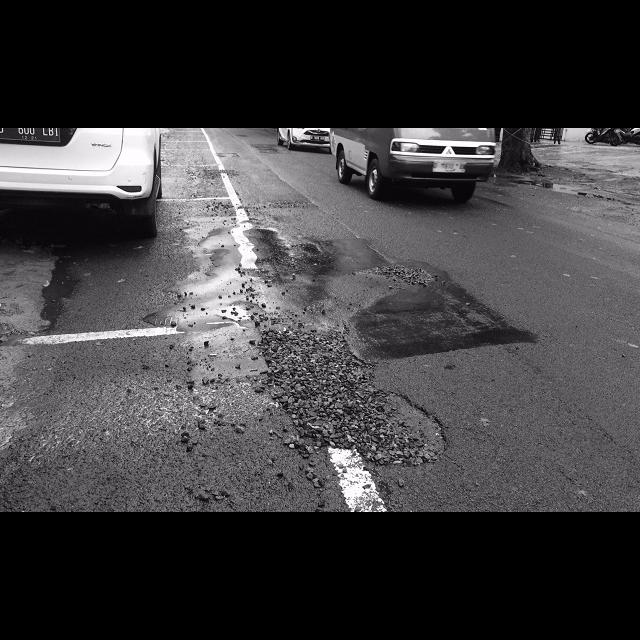lubang_kecil: (250, 324, 450, 481)
